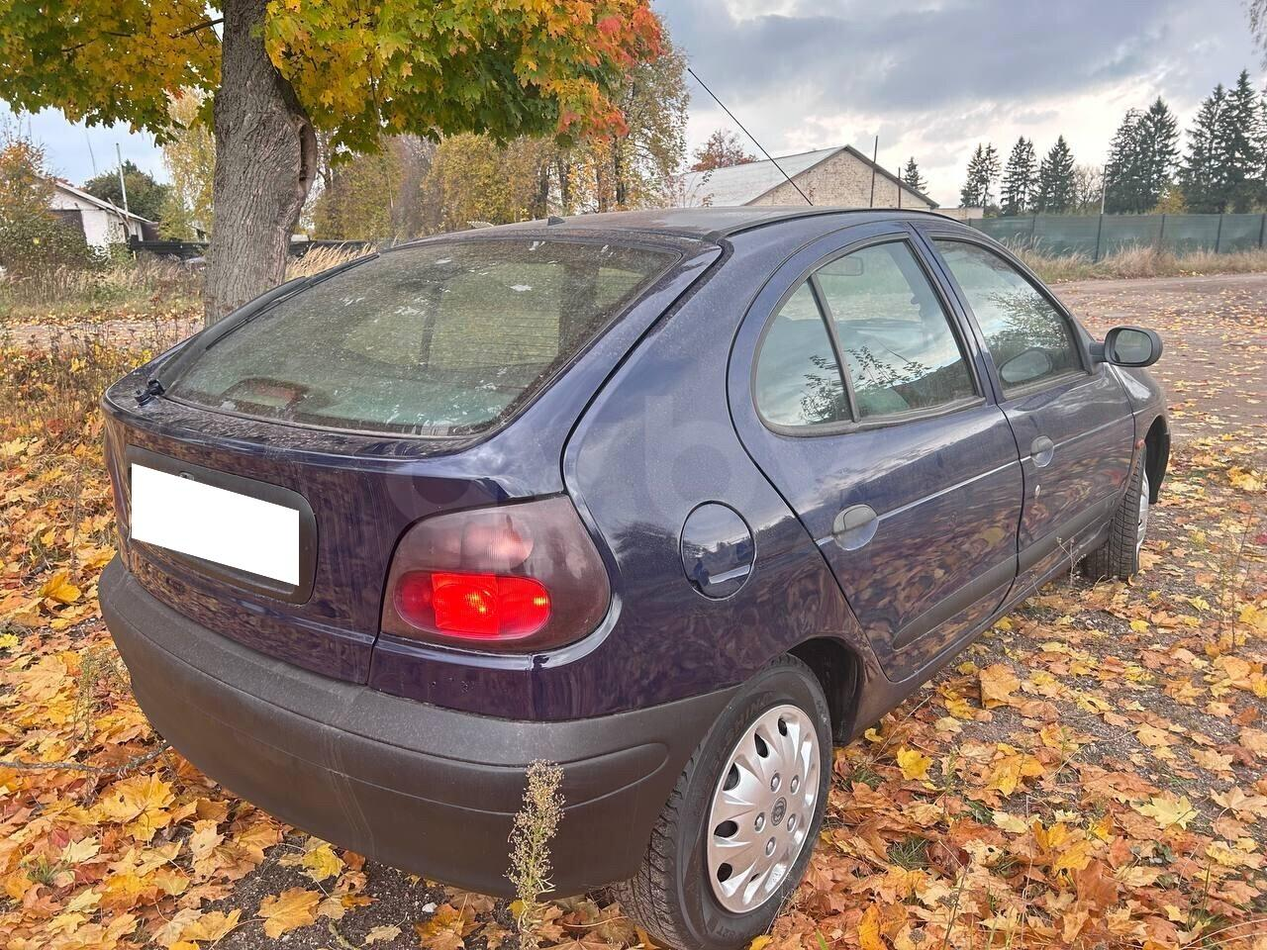Megane_1995-1999: (63, 199, 1180, 933)
